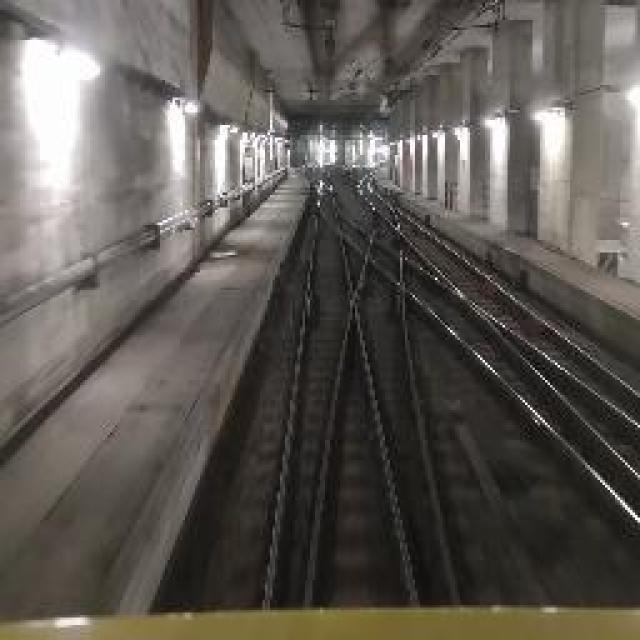rail: (242, 162, 482, 616)
